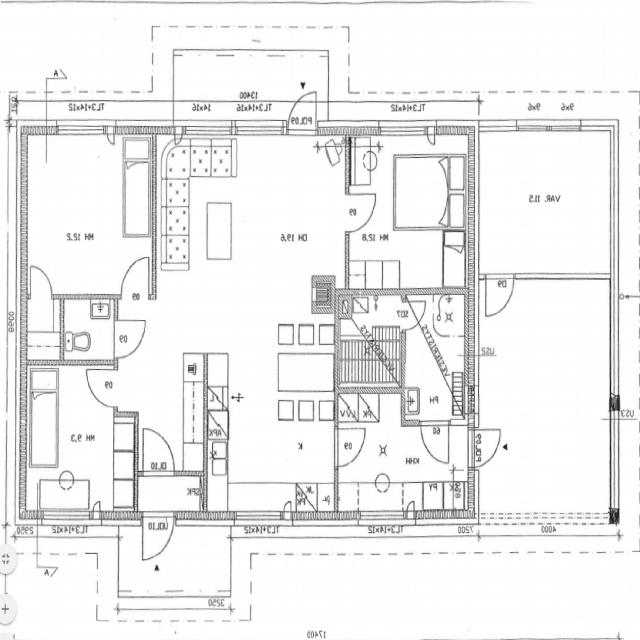door: (143, 512, 174, 568), (468, 429, 508, 467), (143, 429, 175, 476), (289, 83, 317, 135), (486, 273, 514, 317), (334, 428, 366, 466), (345, 194, 377, 232), (114, 320, 146, 358), (121, 256, 149, 299), (86, 369, 118, 406), (421, 420, 448, 463), (30, 265, 52, 299), (401, 302, 426, 330)
